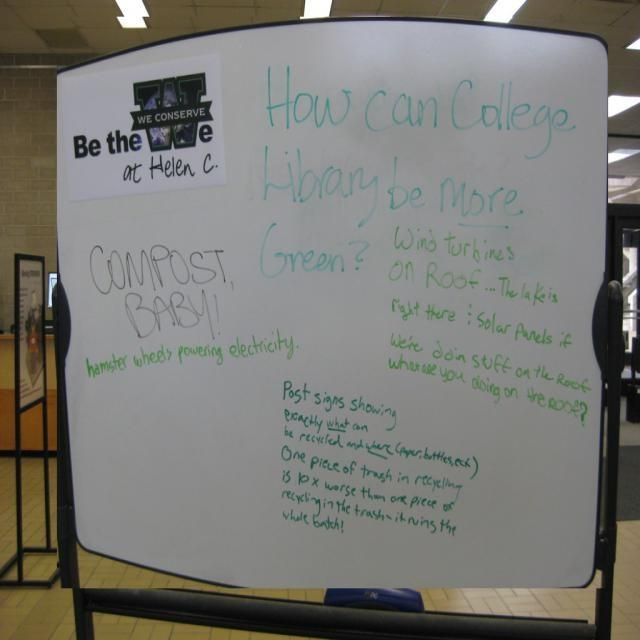Whiteboard: (57, 16, 611, 590)
